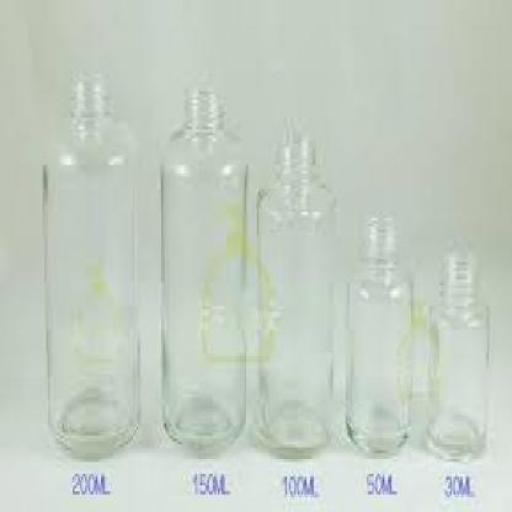glass: (39, 73, 138, 456), (160, 88, 244, 450), (253, 136, 332, 456), (344, 214, 408, 454), (424, 253, 484, 462)
